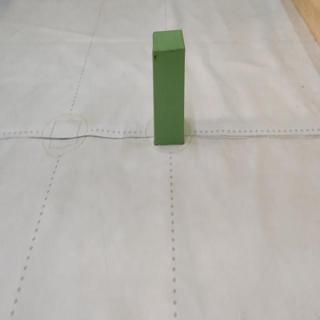greenbox: (154, 32, 185, 144)
